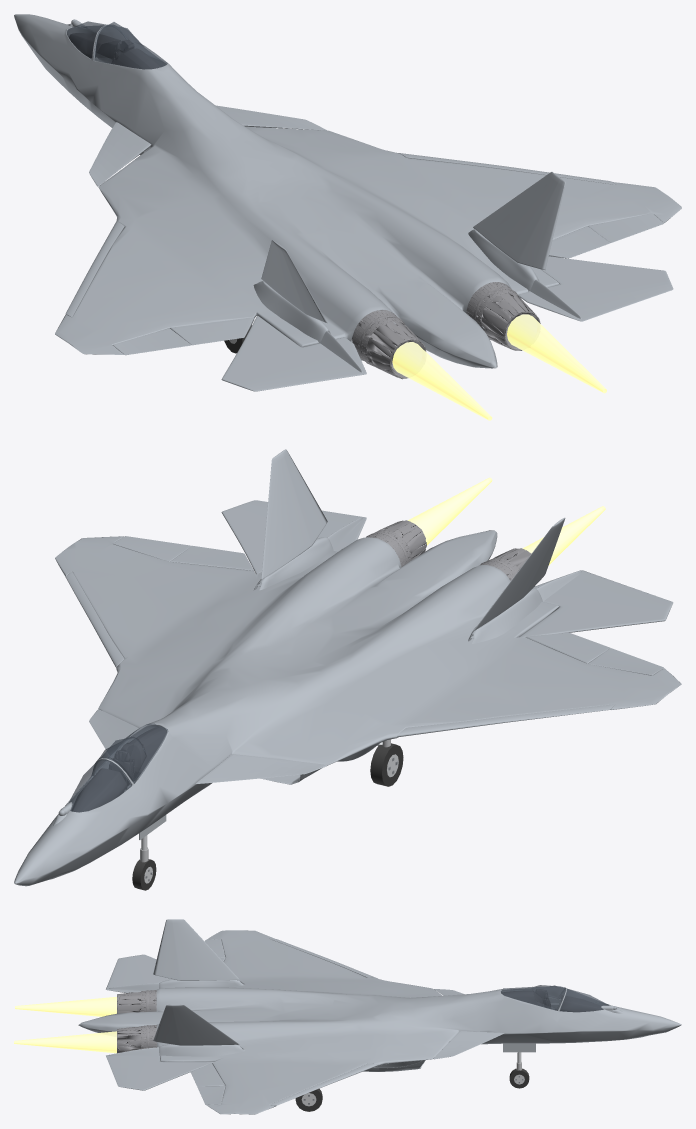
The picture shows the model from 3 angles, top to bottom: view 1: azimuth 30°, elevation 25°; view 2: azimuth 150°, elevation 25°; view 3: azimuth 270°, elevation 25°; orthographic projection. The views are drawn at different scales.
Visible parts, largest first — view 1: airframe, elevatorL, elevatorR, x_tvc, flame, rudder2, rudder, x_canopy, x_levconL, flapL, x_levconR, flapR (+4 smaller); view 2: airframe, elevatorL, rudder2, elevatorR, flame, x_tvc, rudder, x_levconL, x_canopy, slatL, flapL, flapR (+5 smaller); view 3: airframe, rudder, flame, elevatorR, rudder2, x_tvc, elevatorL, x_canopy, x_levconR, slatR, flapR, wheel2_0 (+4 smaller).
Part boxes in pixels (box(x1,y1,x2,y2)): airframe: box(14, 14, 681, 372); elevatorL: box(221, 315, 366, 391); elevatorR: box(518, 256, 673, 321); x_tvc: box(352, 282, 540, 379); flame: box(392, 314, 606, 420); rudder2: box(473, 172, 565, 269); rudder: box(261, 240, 327, 322); x_canopy: box(93, 22, 167, 69); x_levconL: box(89, 122, 151, 186); flapL: box(170, 317, 254, 345); x_levconR: box(215, 105, 326, 130); flapR: box(549, 226, 610, 258); airframe: box(14, 517, 681, 886); elevatorL: box(519, 570, 673, 637); rudder2: box(261, 449, 327, 579); elevatorR: box(221, 500, 366, 574); flame: box(408, 477, 605, 565); x_tvc: box(366, 520, 531, 580); rudder: box(473, 517, 565, 631); x_levconL: box(196, 754, 327, 783); x_canopy: box(96, 723, 167, 783); slatL: box(397, 704, 615, 736); flapL: box(525, 632, 610, 663); flapR: box(170, 545, 254, 571); airframe: box(78, 930, 681, 1114); rudder: box(153, 919, 239, 980); flame: box(14, 997, 116, 1053); elevatorR: box(106, 1054, 213, 1090); rudder2: box(153, 1004, 239, 1045); x_tvc: box(117, 990, 156, 1053); elevatorL: box(106, 954, 172, 993); x_canopy: box(501, 985, 565, 1010); x_levconR: box(433, 1031, 504, 1059); slatR: box(269, 1063, 378, 1105); flapR: box(190, 1063, 225, 1086); wheel2_0: box(295, 1088, 322, 1111).
Bounding box in the file's own units: 14.47 × 4.6 × 22.23.
